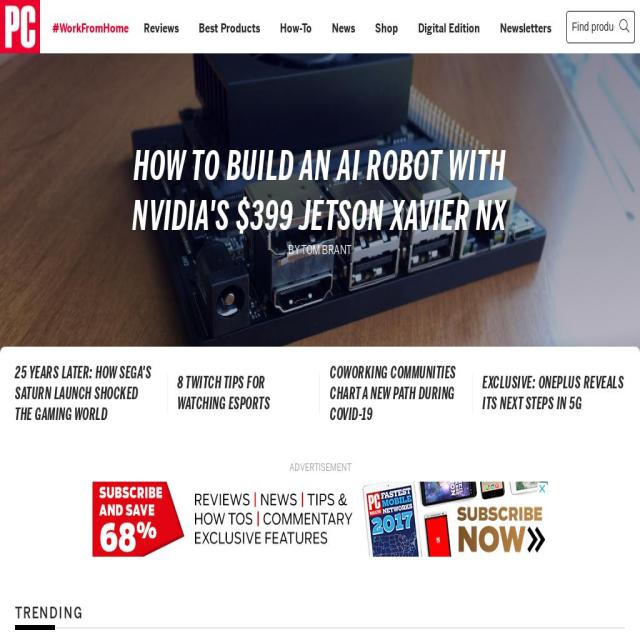button: (0, 0, 640, 440), (48, 7, 134, 53), (408, 7, 490, 53), (189, 7, 270, 53), (490, 7, 561, 53), (134, 7, 188, 53), (270, 7, 322, 53), (0, 0, 40, 53), (322, 7, 365, 53), (365, 7, 408, 53)
field: (566, 10, 635, 43)
heading: (15, 604, 83, 622), (15, 625, 55, 632)
iframe: (92, 482, 548, 556)
image: (0, 0, 40, 53)
link: (0, 241, 640, 259), (15, 374, 157, 414), (483, 374, 625, 414), (178, 374, 310, 414), (330, 374, 462, 414)
text: (80, 140, 560, 242), (0, 453, 640, 482), (199, 21, 260, 36), (144, 21, 178, 36), (280, 21, 312, 36), (332, 21, 355, 36)
